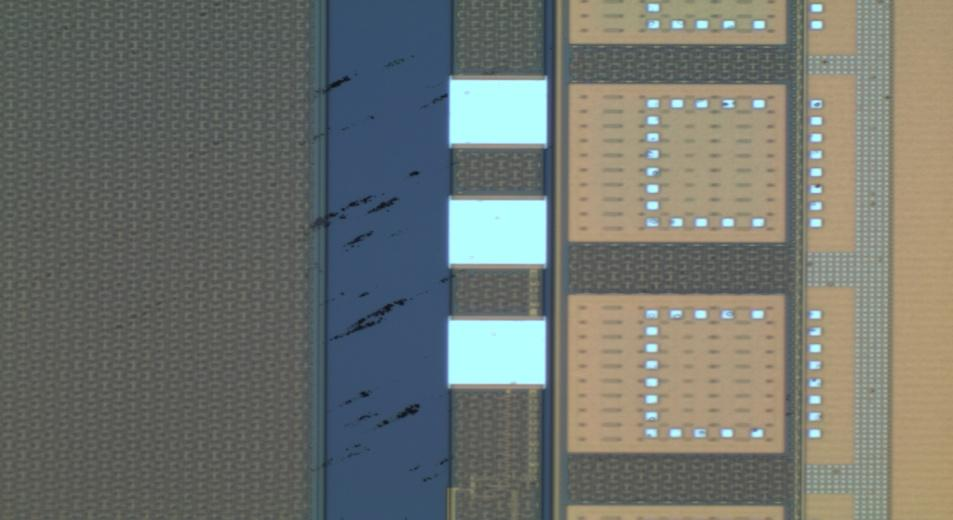SCRATCH: (3, 44, 494, 490)
